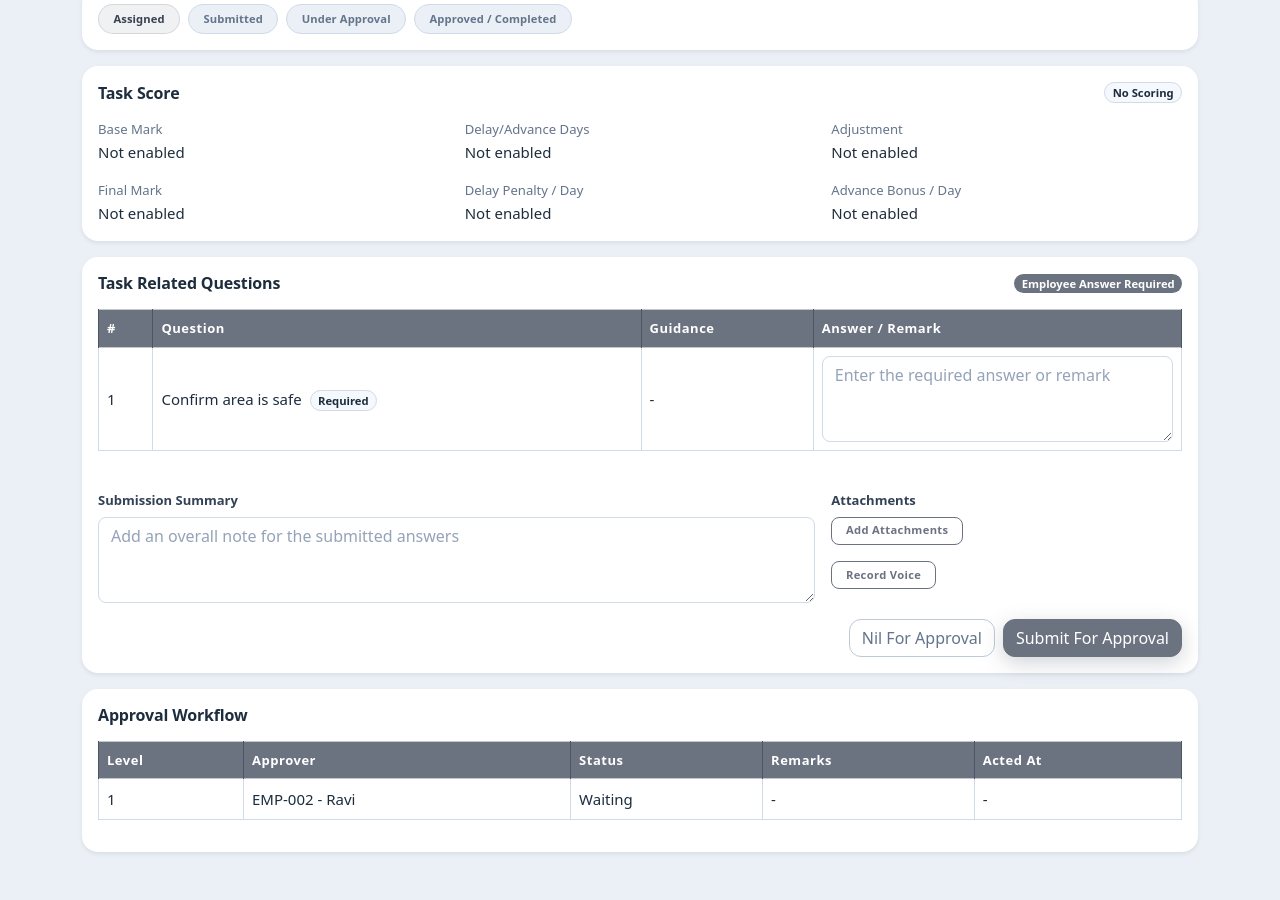
Test: checklist task voice recording › shows unsupported recorder errors inline on the task detail screen
(page scrolled)
Click the button "Record Voice" at (884, 575), box left=831, top=561, right=936, bottom=589
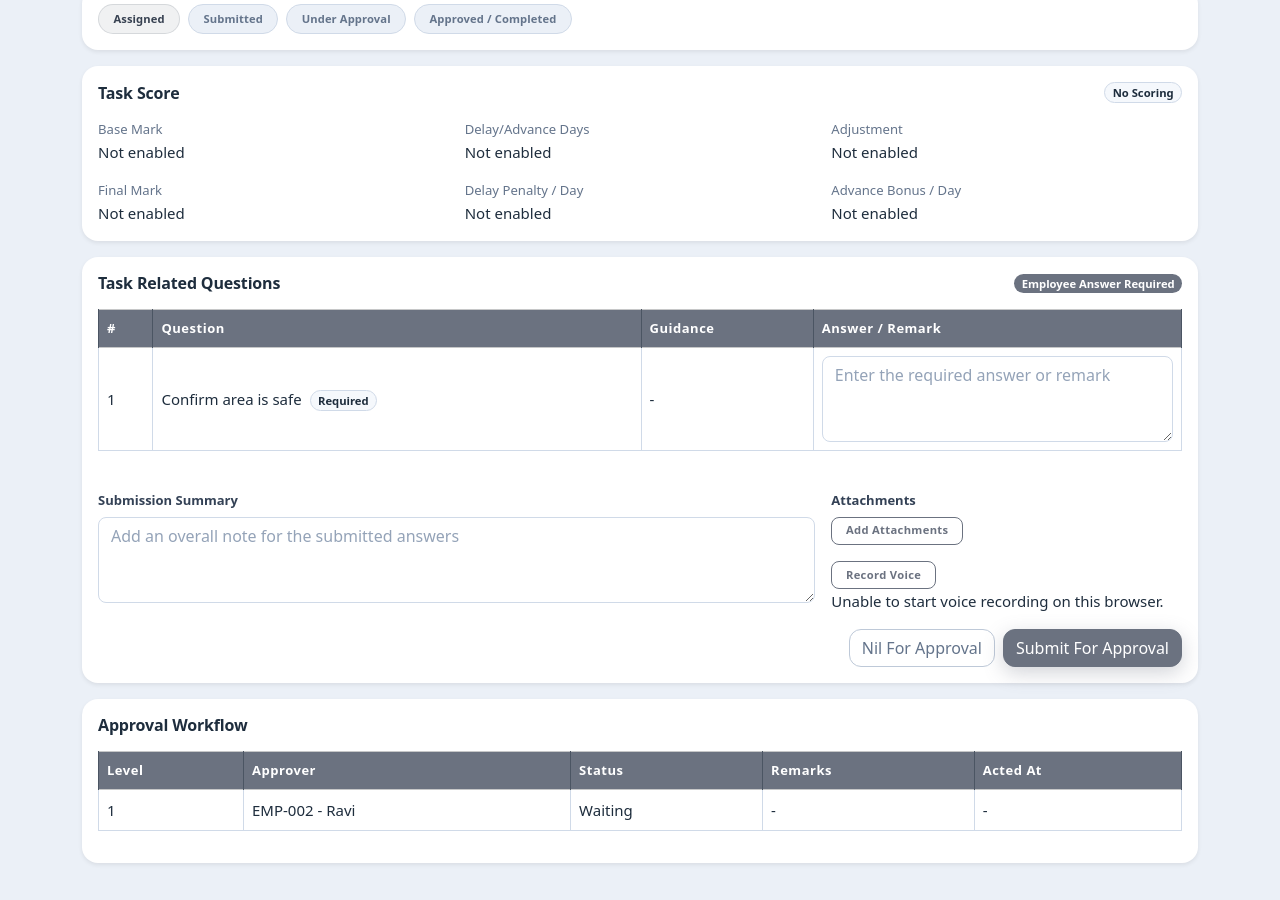
Check: the text "Unable to start voice recording on this browser." is shown, box left=831, top=589, right=1182, bottom=613
